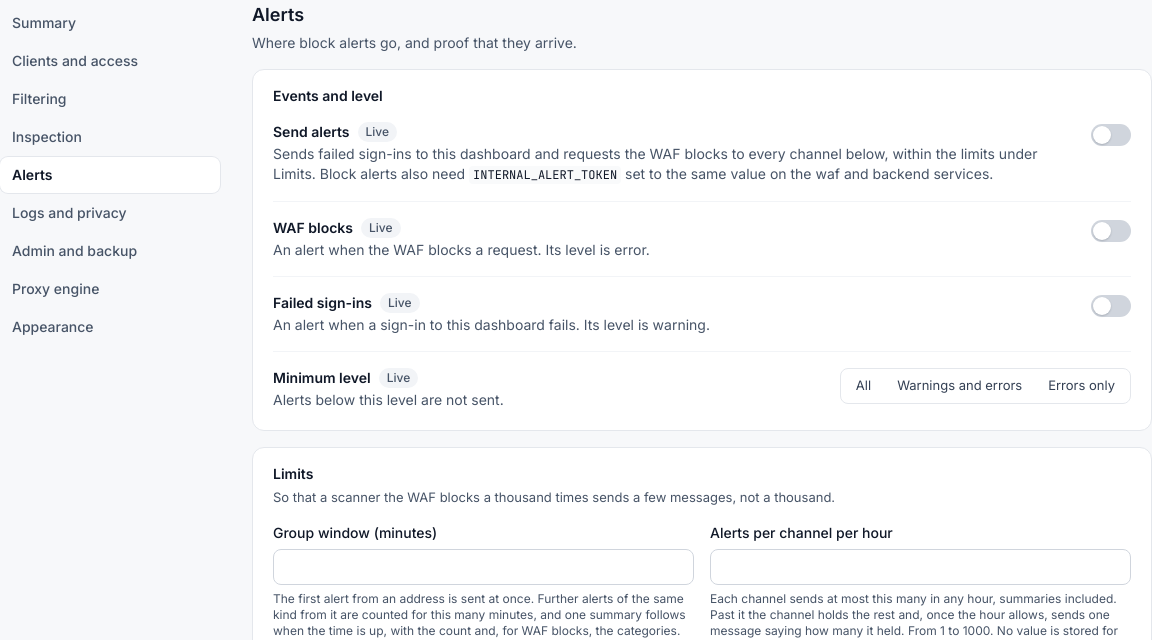
Settings sections, part B › Alerts › tests the saved channels and shows what each one answered
Unsaved changes: the test would not use them.
Click the switch named "Send alerts" in the row of "Send alerts": point(1111, 134) [1091, 124, 1131, 146]
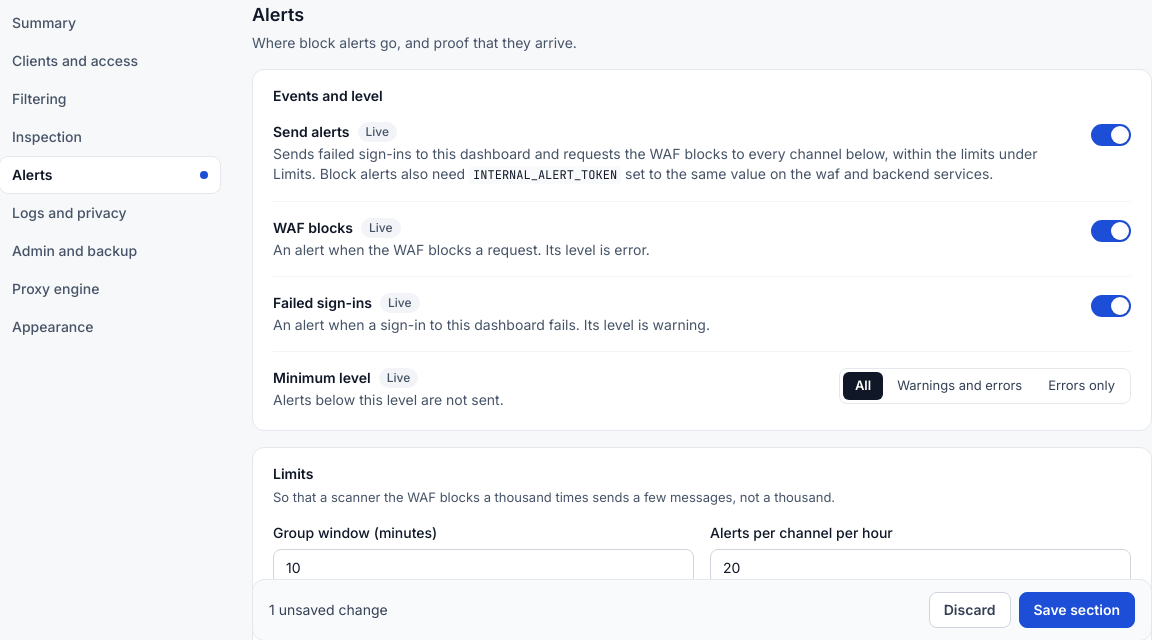
Click the button "Discard": point(970, 610) [929, 592, 1010, 628]
(page scrolled)
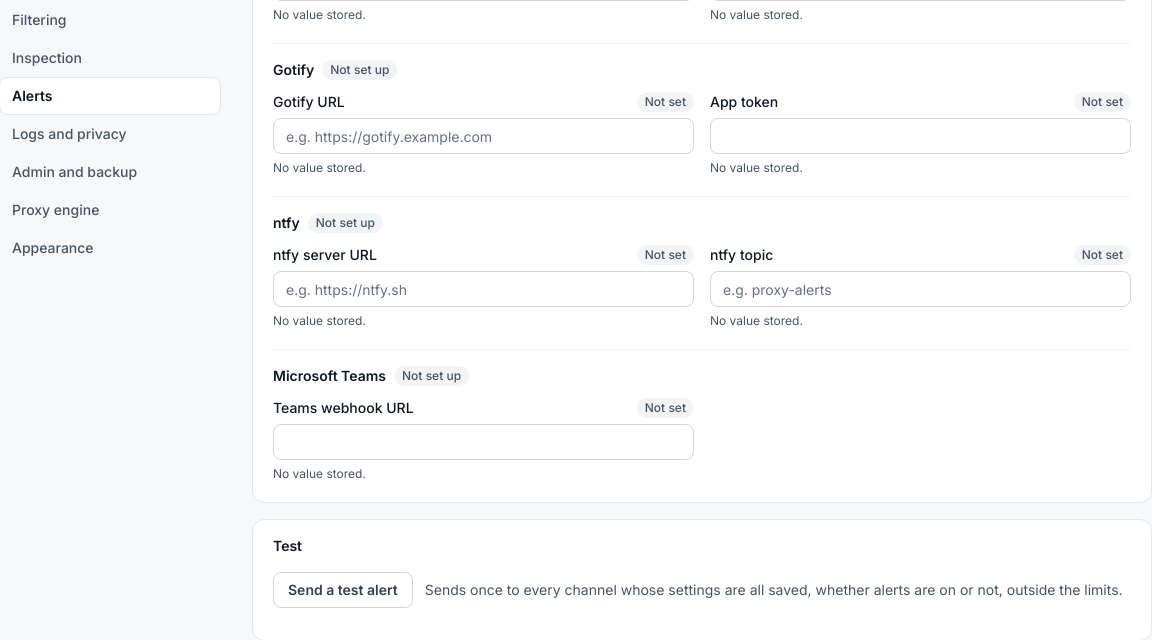
Now the button "Send a test alert" is enabled
Click the button "Send a test alert": point(343, 590) [273, 572, 413, 608]
(page scrolled)
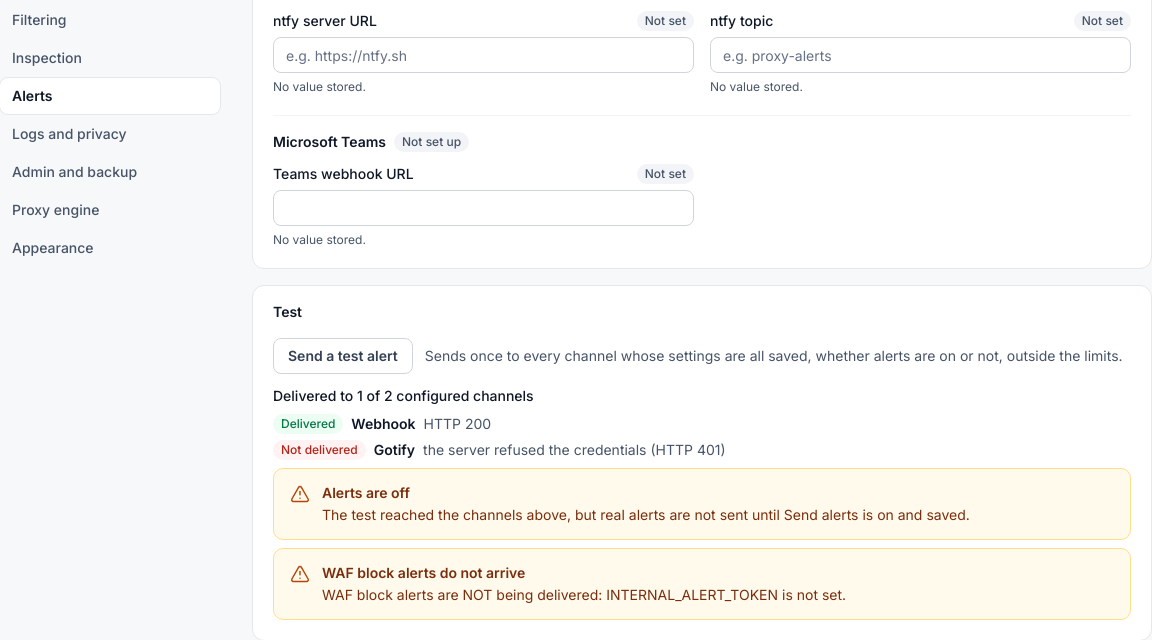
Now the text "Delivered to 1 of 2 configured channels" is shown, box [273, 387, 534, 404]
Now the text "Alerts are off" is shown, box [322, 484, 410, 501]
Now the text "INTERNAL_ALERT_TOKEN is not set" is shown, box [322, 586, 846, 603]
